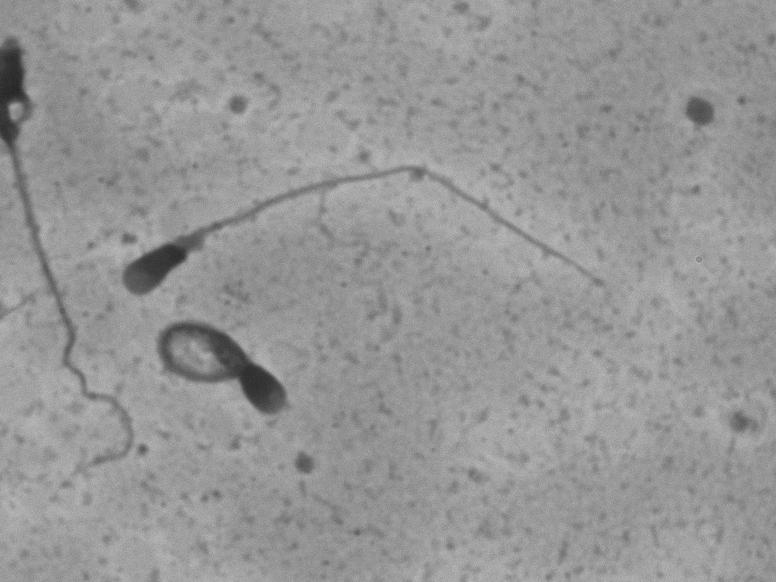Abnormal: (112, 104, 590, 309), (155, 308, 297, 437)
